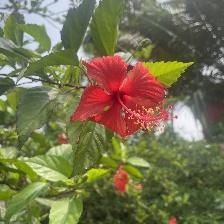hibiscus: (70, 55, 181, 146)
